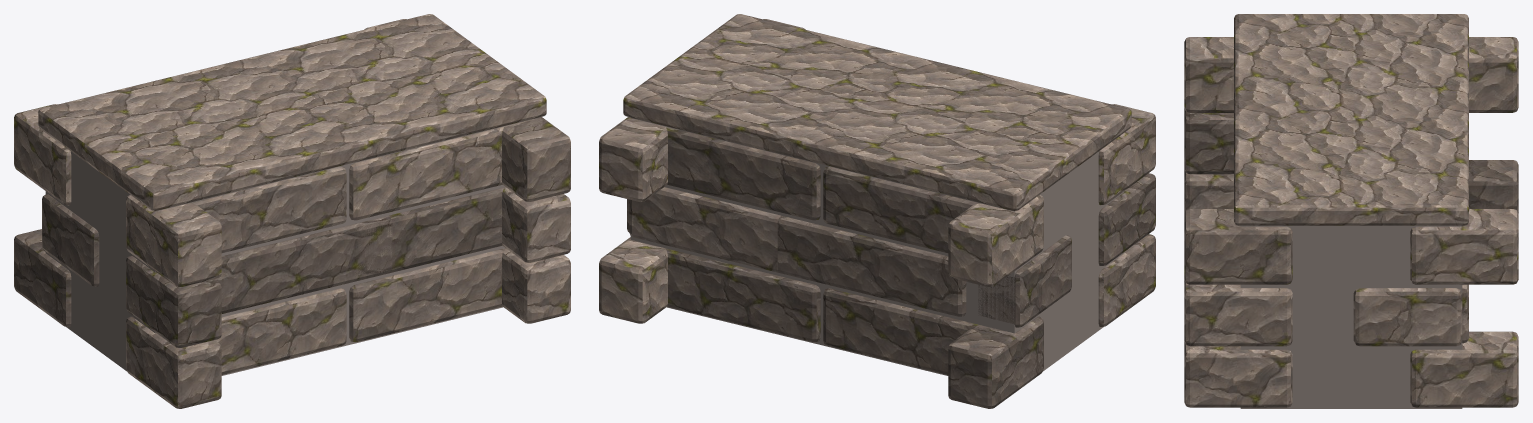
Rendered from foundation_half__copper_ingot.glb.
3 views of the same model, side by side, from view 1: azimuth 30°, elevation 25°; view 2: azimuth 150°, elevation 25°; view 3: azimuth 270°, elevation 25° (orthographic).
Visible parts, largest first — view 1: model; view 2: model; view 3: model.
Part boxes in pixels (x1,y1,x2,y2): model: (14,14,570,408); model: (599,14,1155,408); model: (1184,14,1518,408).
Bounding box in the file's own units: 2.04 × 1 × 1.48.
Materials: 4 (3 with a texture image).
